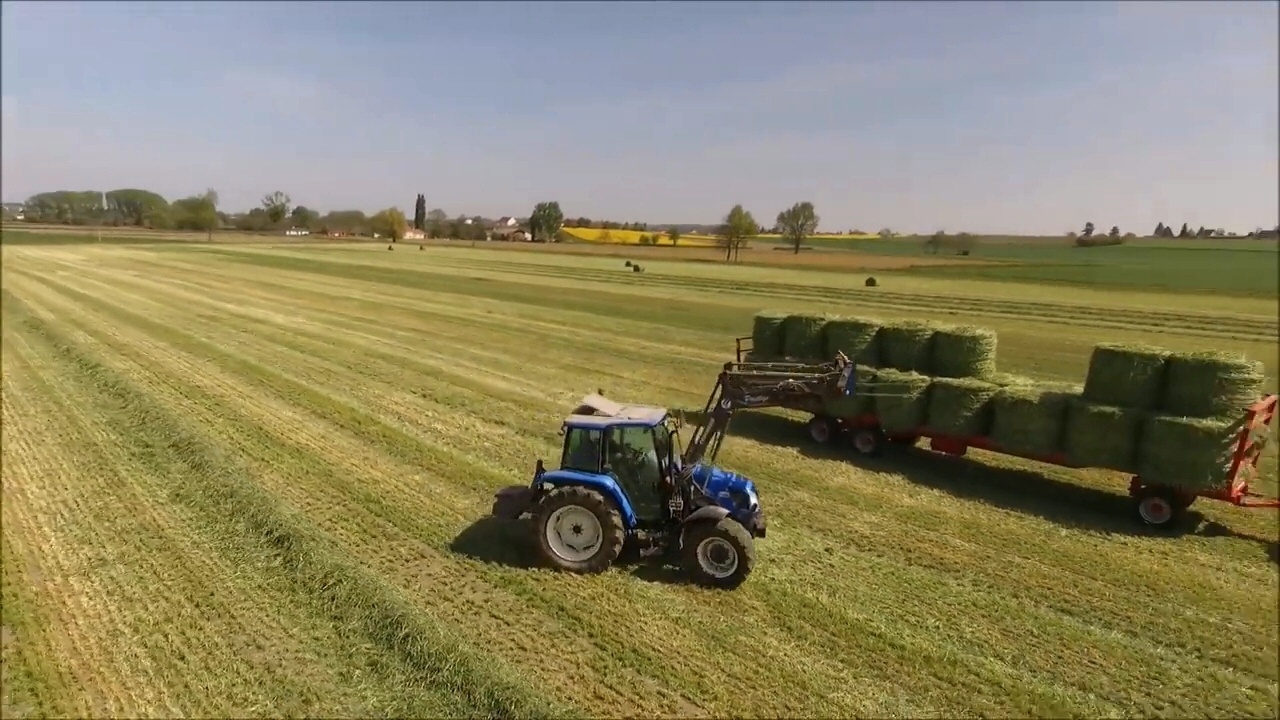traktor: (522, 394, 770, 578)
